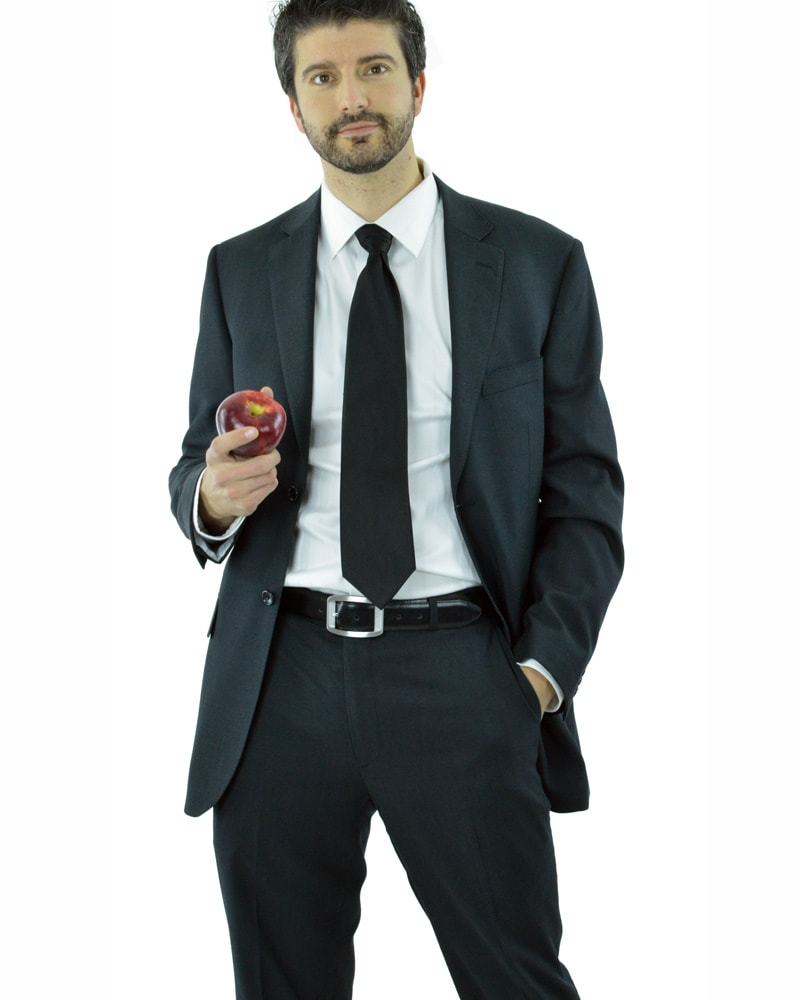F_M_suit jacket: (157, 188, 626, 810)
F_belt: (260, 580, 510, 651)
F_dress pants: (177, 647, 595, 984)
F_tie: (339, 217, 422, 592)
